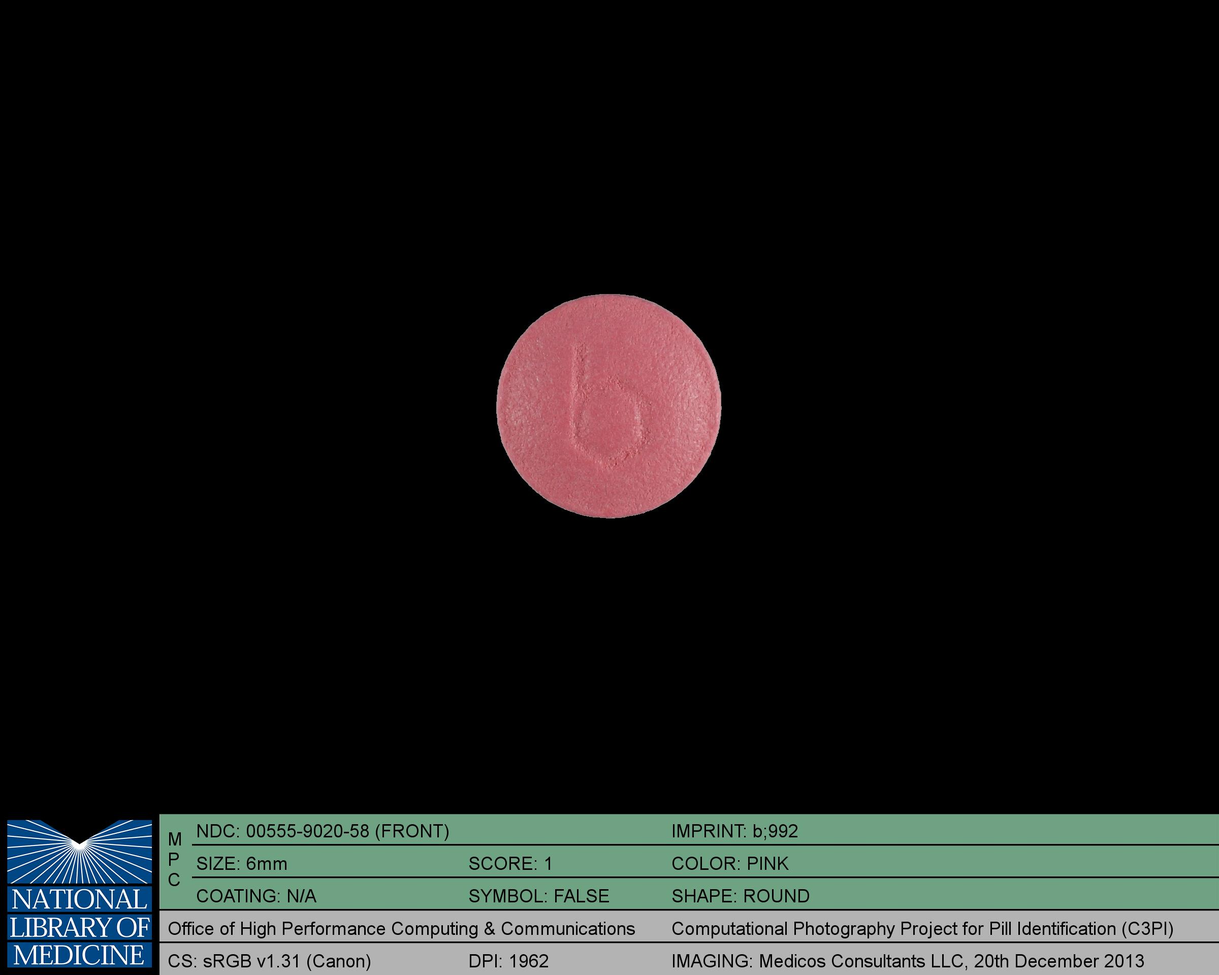Pill: (481, 281, 733, 528)
